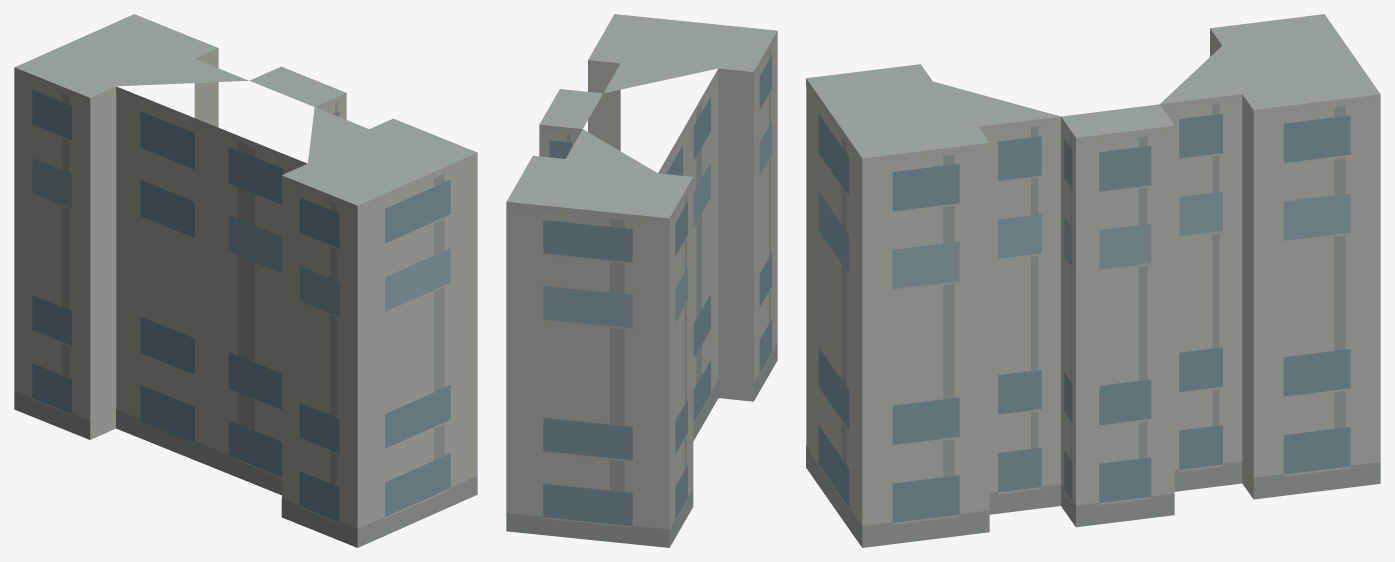
The model's file is survey-upis-32617863.glb.
The picture shows the model from 3 angles, left to right: view 1: azimuth 30°, elevation 25°; view 2: azimuth 150°, elevation 25°; view 3: azimuth 270°, elevation 25°; orthographic projection. The views are drawn at different scales.
Visible parts, largest first — view 1: survey-upis-32617863.tmp; view 2: survey-upis-32617863.tmp; view 3: survey-upis-32617863.tmp.
Boxes of the visible parts, x1,y1,x2,y2 form: survey-upis-32617863.tmp: (14,14,477,547); survey-upis-32617863.tmp: (506,14,777,547); survey-upis-32617863.tmp: (806,14,1380,547).
Bounding box in the file's own units: 10.36 × 13 × 17.39.
